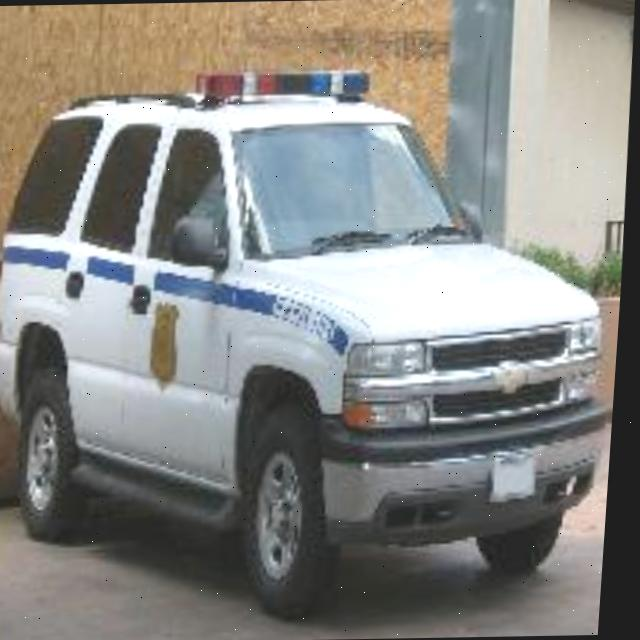emergency: (0, 56, 627, 610)
